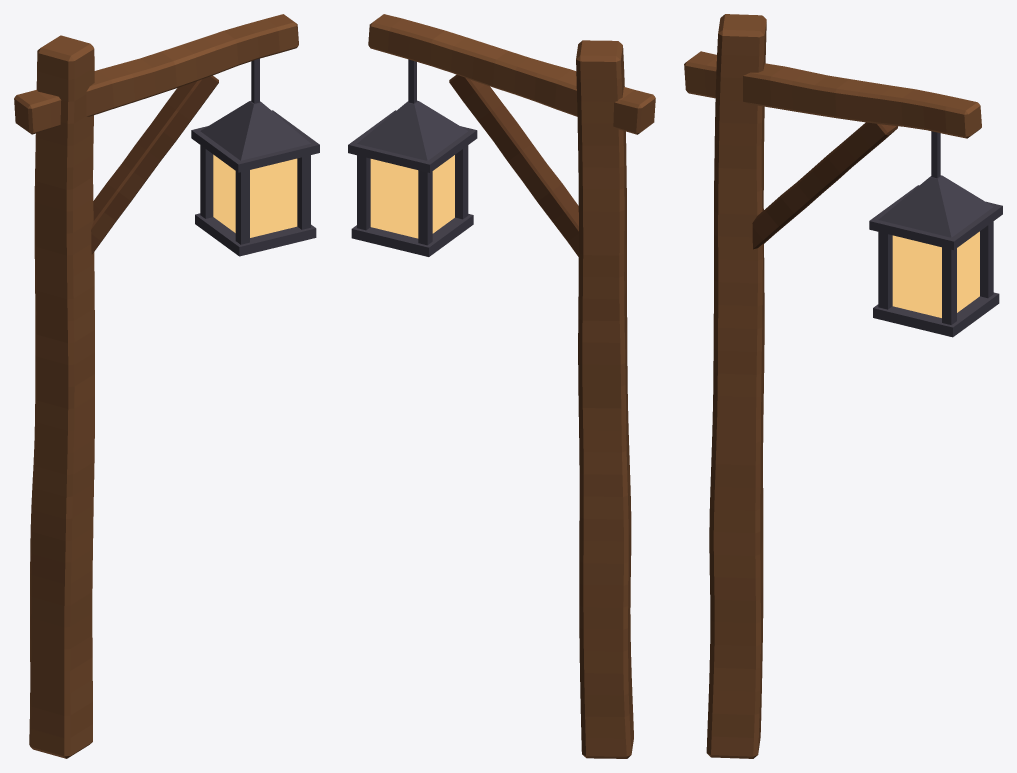
File: lantern_post__a.glb
The picture shows the model from 3 angles, left to right: view 1: azimuth 30°, elevation 25°; view 2: azimuth 150°, elevation 25°; view 3: azimuth 330°, elevation 25°; orthographic projection. The views are drawn at different scales.
Parts seen in each view (by area): view 1: lantern_post, lantern_arm, lantern_brace, lantern_pane, lantern_cap, lantern_floor, lantern_top, lantern_bar, lantern_bar.001, lantern_bar.003; view 2: lantern_post, lantern_arm, lantern_brace, lantern_pane, lantern_cap, lantern_floor, lantern_top, lantern_bar.003, lantern_bar.002, lantern_bar; view 3: lantern_post, lantern_arm, lantern_pane, lantern_brace, lantern_cap, lantern_floor, lantern_top, lantern_bar.001, lantern_bar, lantern_bar.002.
Part boxes in pixels (x1,y1,x2,y2): lantern_post: (29, 35, 94, 758); lantern_arm: (14, 14, 298, 134); lantern_brace: (91, 75, 218, 254); lantern_pane: (213, 154, 297, 237); lantern_cap: (200, 101, 310, 160); lantern_floor: (195, 213, 316, 256); lantern_top: (191, 110, 319, 172); lantern_bar: (235, 170, 249, 244); lantern_bar.001: (297, 155, 310, 229); lantern_bar.003: (200, 145, 213, 218); lantern_post: (576, 40, 633, 758); lantern_arm: (368, 14, 655, 134); lantern_brace: (449, 74, 578, 256); lantern_pane: (370, 155, 454, 238); lantern_cap: (357, 100, 467, 160); lantern_floor: (351, 214, 473, 256); lantern_top: (348, 110, 477, 172); lantern_bar.003: (418, 170, 432, 245); lantern_bar.002: (357, 155, 370, 230); lantern_bar: (455, 145, 468, 219); lantern_post: (706, 14, 766, 758); lantern_arm: (684, 51, 981, 138); lantern_pane: (892, 231, 979, 317); lantern_brace: (752, 122, 897, 249); lantern_cap: (878, 175, 993, 237); lantern_floor: (873, 292, 999, 337); lantern_top: (869, 185, 1002, 250); lantern_bar.001: (942, 247, 956, 324); lantern_bar: (878, 232, 892, 309); lantern_bar.002: (980, 221, 993, 298).
Bounding box in the file's own units: 1.11 × 2.68 × 0.3273.
